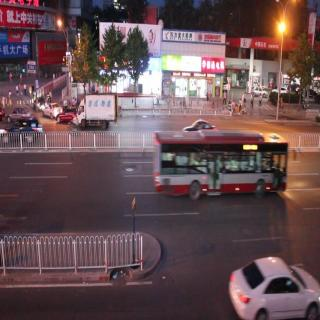BigCar: (151, 122, 290, 198), (77, 93, 117, 130)
Car: (228, 257, 320, 318), (8, 118, 41, 143), (41, 101, 60, 121), (57, 109, 75, 124), (253, 82, 267, 100)
